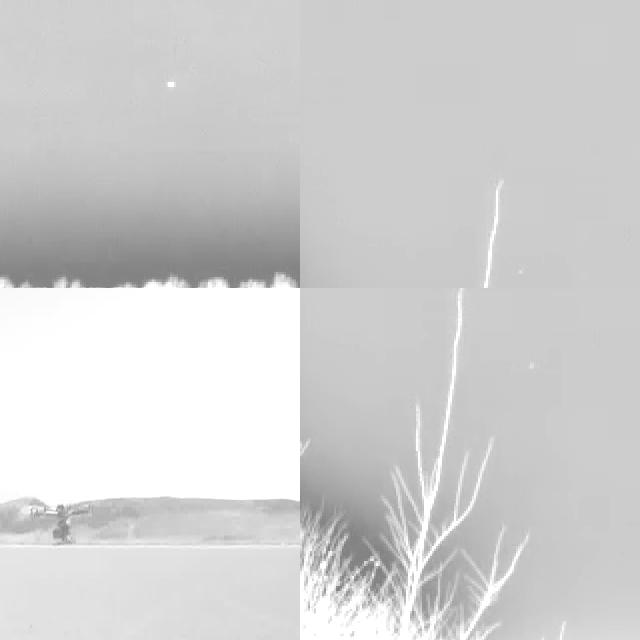0: (521, 356, 547, 384), (510, 262, 536, 282)
1: (163, 74, 189, 100)
drone: (26, 502, 92, 540)
